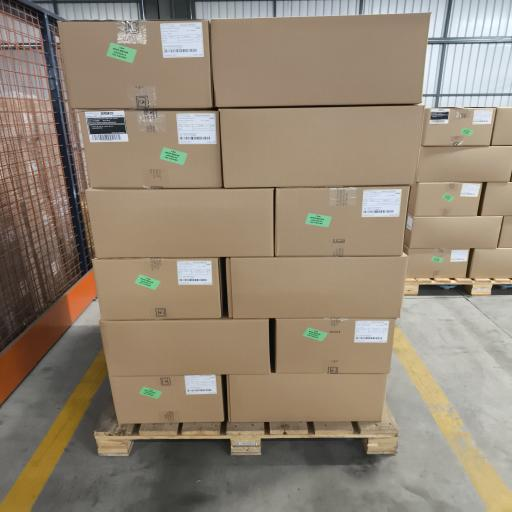pallet: (95, 403, 398, 456), (405, 278, 511, 296)
